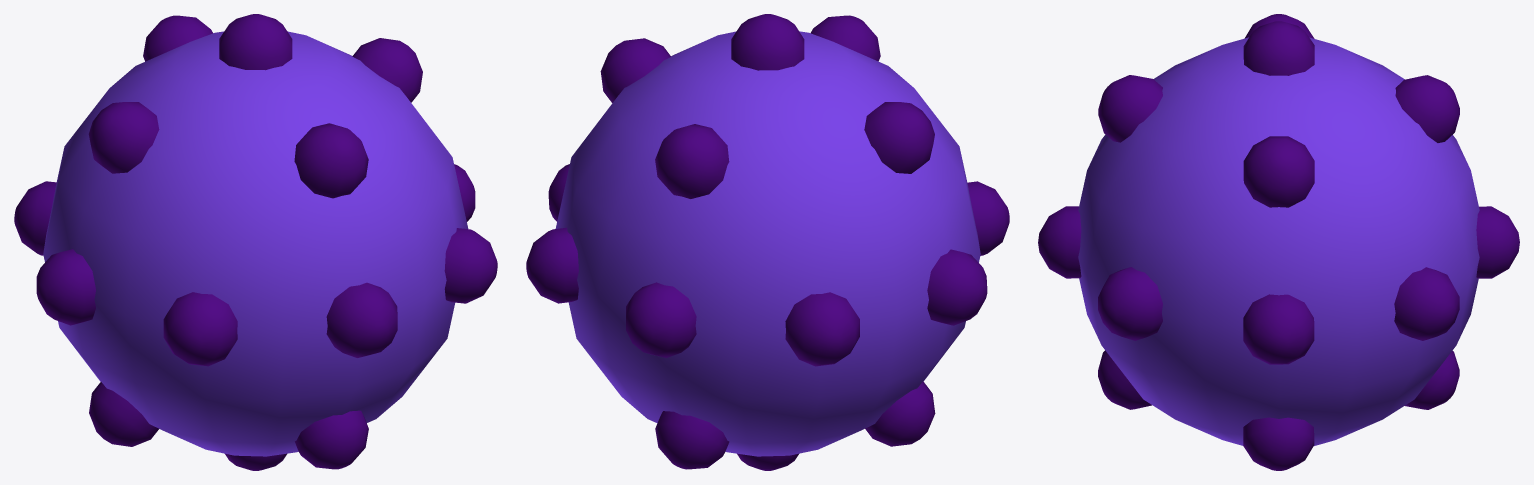
File: danger ball_violet.fbx
The picture shows the model from 3 angles, left to right: view 1: azimuth 30°, elevation 25°; view 2: azimuth 150°, elevation 25°; view 3: azimuth 270°, elevation 25°; orthographic projection. The views are drawn at different scales.
Visible parts, largest first — view 1: danger ball_violet; view 2: danger ball_violet; view 3: danger ball_violet.
Boxes of the visible parts, x1,y1,x2,y2 form: danger ball_violet: (14,14,497,470); danger ball_violet: (526,14,1009,470); danger ball_violet: (1038,14,1519,470).
Size of the model in its own units: 0.4351 by 0.4351 by 0.4351.
